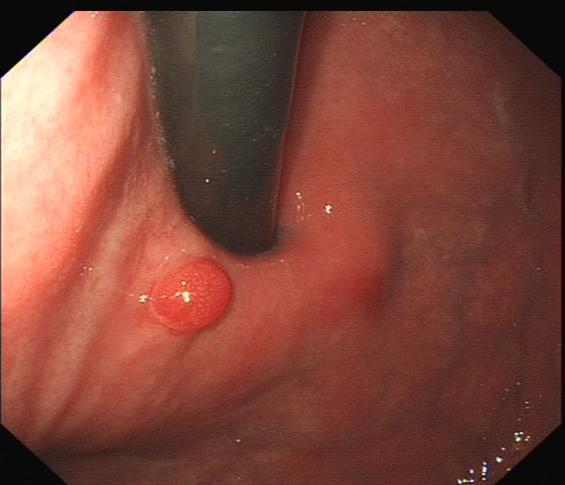Polyp: (134, 252, 249, 351)
